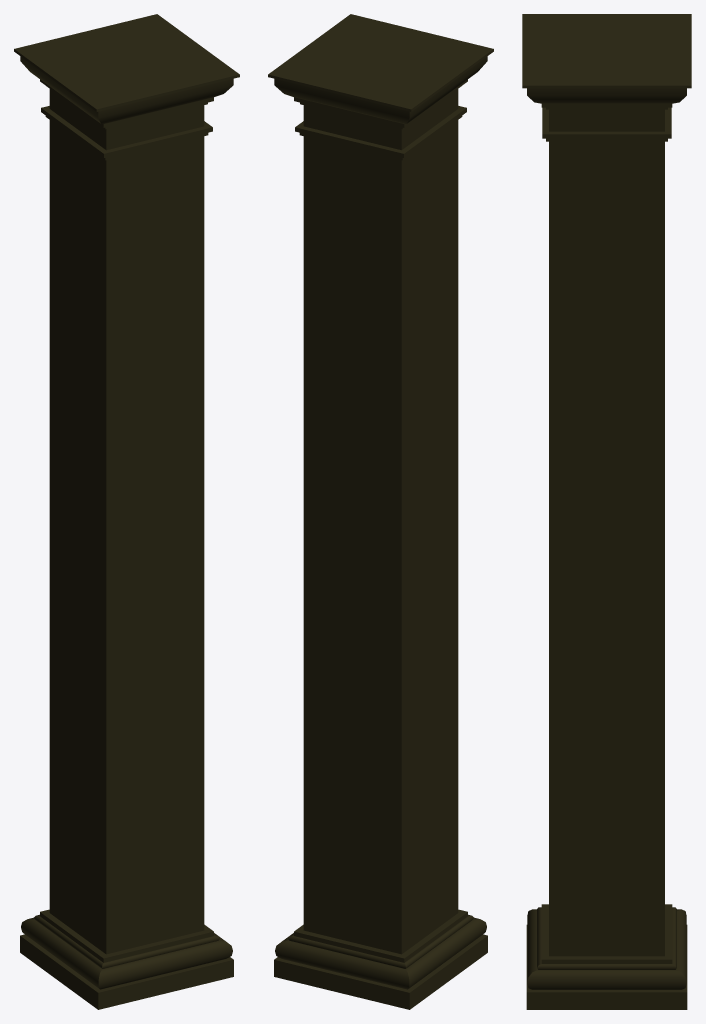
Rendered from Pillar02.FBX.
3 views of the same model, side by side, from view 1: azimuth 30°, elevation 25°; view 2: azimuth 150°, elevation 25°; view 3: azimuth 270°, elevation 25° (orthographic). The views are drawn at different scales.
Visible parts, largest first — view 1: Pillar02; view 2: Pillar02; view 3: Pillar02.
Part boxes in pixels (x1,y1,x2,y2): Pillar02: (14,14,239,1009); Pillar02: (268,14,493,1009); Pillar02: (522,14,691,1009).
Size of the model in its own units: 265 by 1595 by 265.
